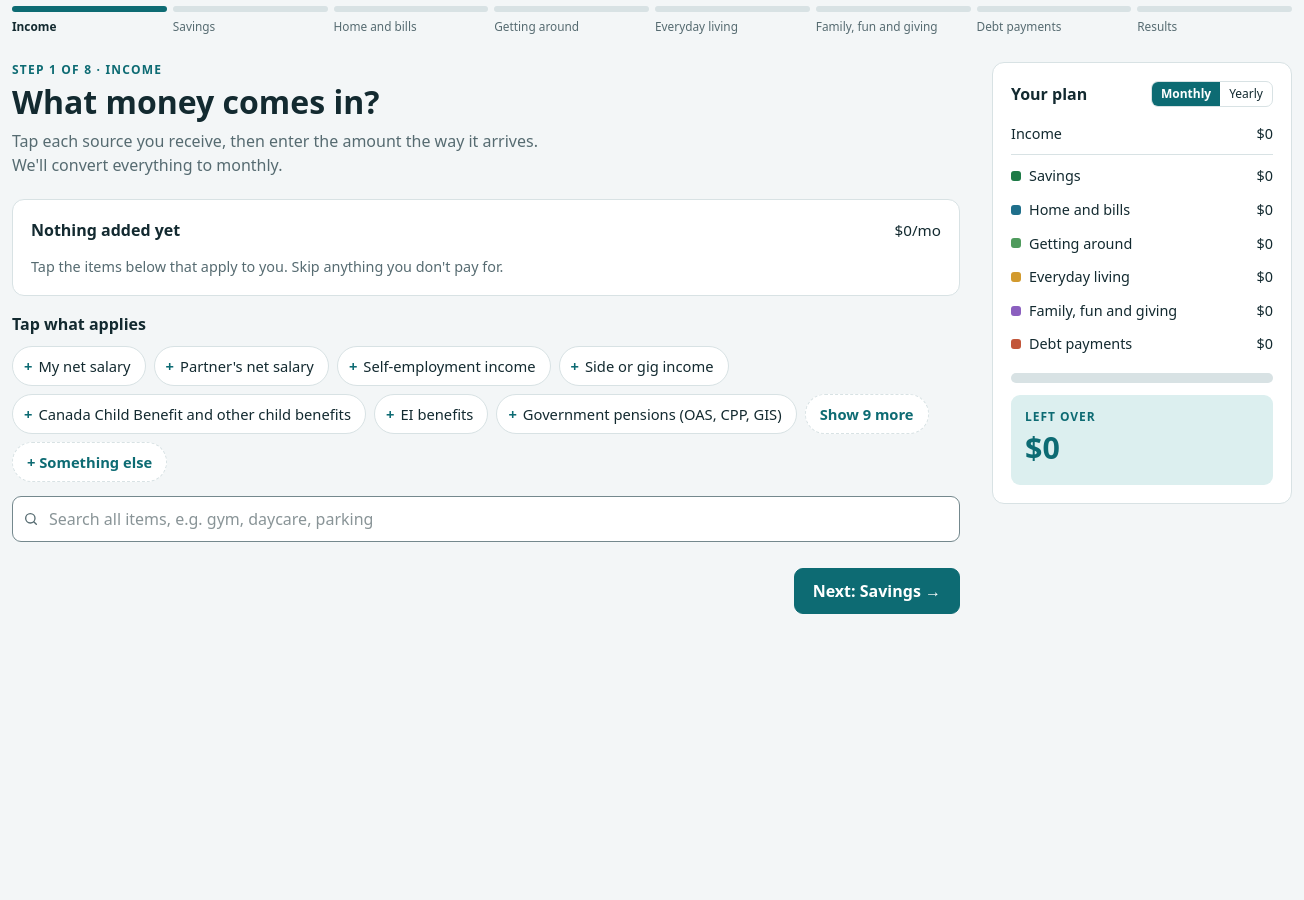
Scenario: BudgetApp › clicking a step moves aria-current, focus and the title
Click the button "Getting around": (572, 21) x1=494 y1=6 x2=649 y2=36
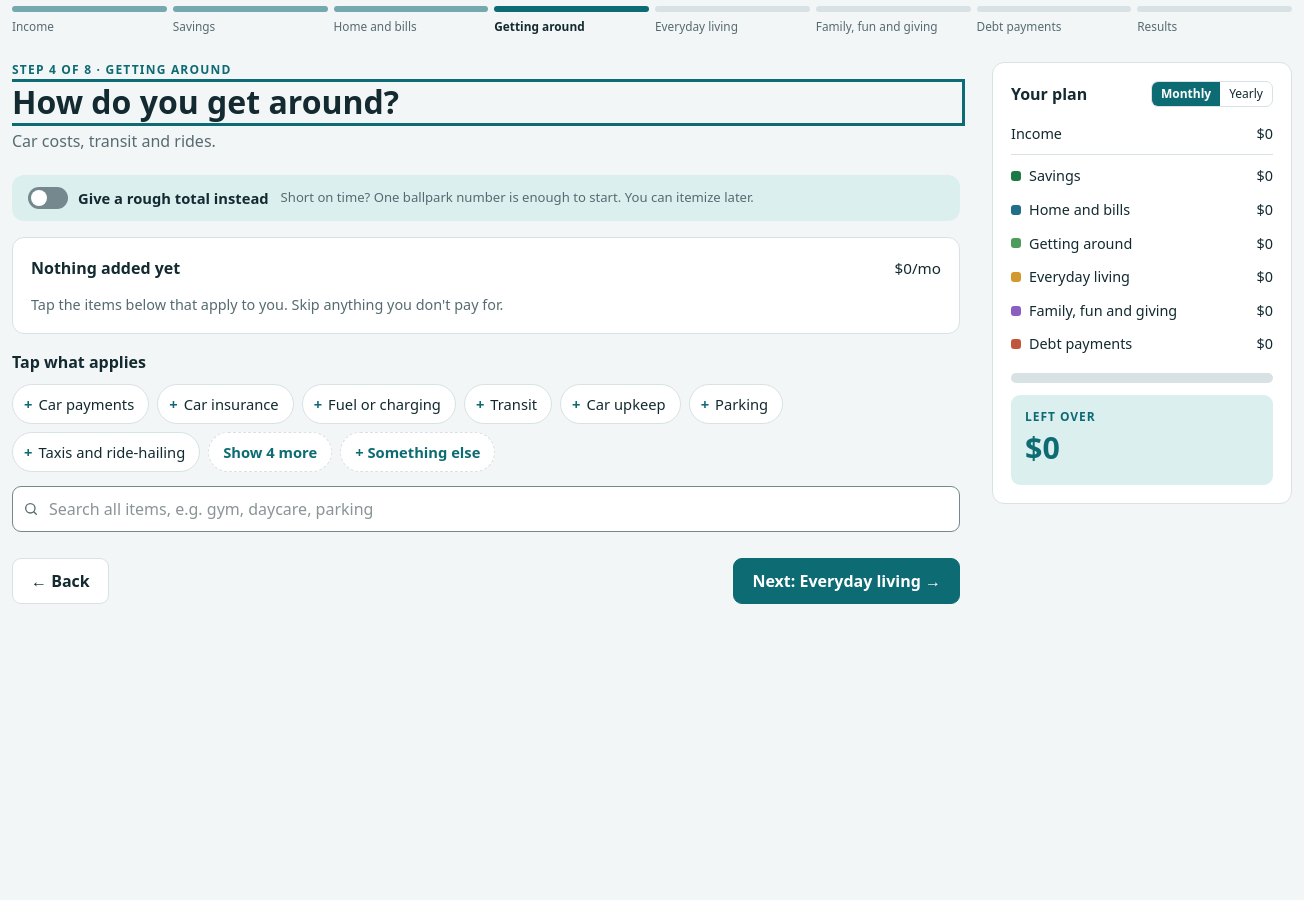
expect the heading "How do you get around?" is shown: met, box x1=12 y1=80 x2=399 y2=123
